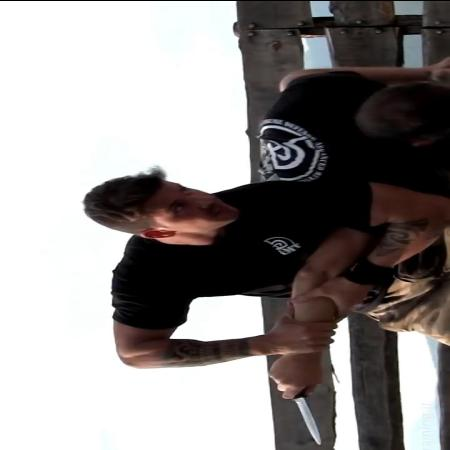long weapon: (265, 368, 328, 449)
